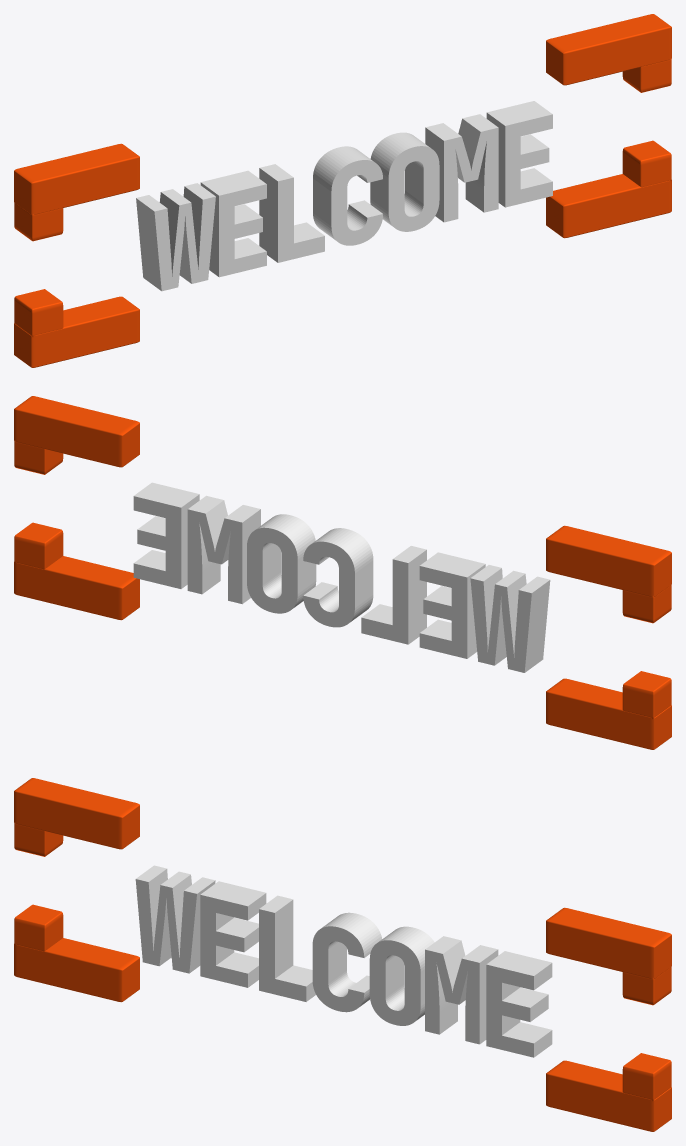
The picture shows the model from 3 angles, top to bottom: view 1: azimuth 30°, elevation 25°; view 2: azimuth 150°, elevation 25°; view 3: azimuth 330°, elevation 25°; orthographic projection.
Parts seen in each view (by area): view 1: 3D Text 2 - E (×2), Angle haut-gauche 2, Angle bas-droit 4, Angle haut-droit 2, Angle bas-gauche 2, 3D Text 2 - W, 3D Text 2 - M, 3D Text 2 - O, 3D Text 2 - C, 3D Text 2 - L; view 2: 3D Text 2 - E (×2), Angle haut-gauche 2, Angle bas-droit 4, Angle haut-droit 2, Angle bas-gauche 2, 3D Text 2 - W, 3D Text 2 - M, 3D Text 2 - O, 3D Text 2 - C, 3D Text 2 - L; view 3: 3D Text 2 - E (×2), Angle haut-droit 2, Angle bas-gauche 2, Angle haut-gauche 2, Angle bas-droit 4, 3D Text 2 - W, 3D Text 2 - M, 3D Text 2 - O, 3D Text 2 - C, 3D Text 2 - L.
Boxes of the visible parts, <box> form: 3D Text 2 - E (×2): <box>200,101,552,277</box>; Angle haut-gauche 2: <box>14,143,139,241</box>; Angle bas-droit 4: <box>546,140,671,238</box>; Angle haut-droit 2: <box>546,14,671,92</box>; Angle bas-gauche 2: <box>14,289,139,367</box>; 3D Text 2 - W: <box>136,183,215,291</box>; 3D Text 2 - M: <box>425,114,498,222</box>; 3D Text 2 - O: <box>370,132,439,231</box>; 3D Text 2 - C: <box>313,146,382,245</box>; 3D Text 2 - L: <box>259,164,324,262</box>; 3D Text 2 - E (×2): <box>133,482,485,658</box>; Angle haut-gauche 2: <box>546,525,671,623</box>; Angle bas-droit 4: <box>14,522,139,620</box>; Angle haut-droit 2: <box>14,396,139,474</box>; Angle bas-gauche 2: <box>546,671,671,749</box>; 3D Text 2 - W: <box>470,565,550,672</box>; 3D Text 2 - M: <box>187,495,260,604</box>; 3D Text 2 - O: <box>247,514,316,613</box>; 3D Text 2 - C: <box>303,528,373,627</box>; 3D Text 2 - L: <box>361,546,426,644</box>; 3D Text 2 - E (×2): <box>200,881,552,1057</box>; Angle haut-droit 2: <box>546,907,671,1005</box>; Angle bas-gauche 2: <box>14,904,139,1002</box>; Angle haut-gauche 2: <box>14,778,139,856</box>; Angle bas-droit 4: <box>546,1053,671,1131</box>; 3D Text 2 - W: <box>135,865,215,973</box>; 3D Text 2 - M: <box>425,936,498,1044</box>; 3D Text 2 - O: <box>369,926,434,1025</box>; 3D Text 2 - C: <box>312,912,381,1012</box>; 3D Text 2 - L: <box>259,895,315,1001</box>.
Size of the model in its own units: 0.3 by 0.0833 by 0.0152.
